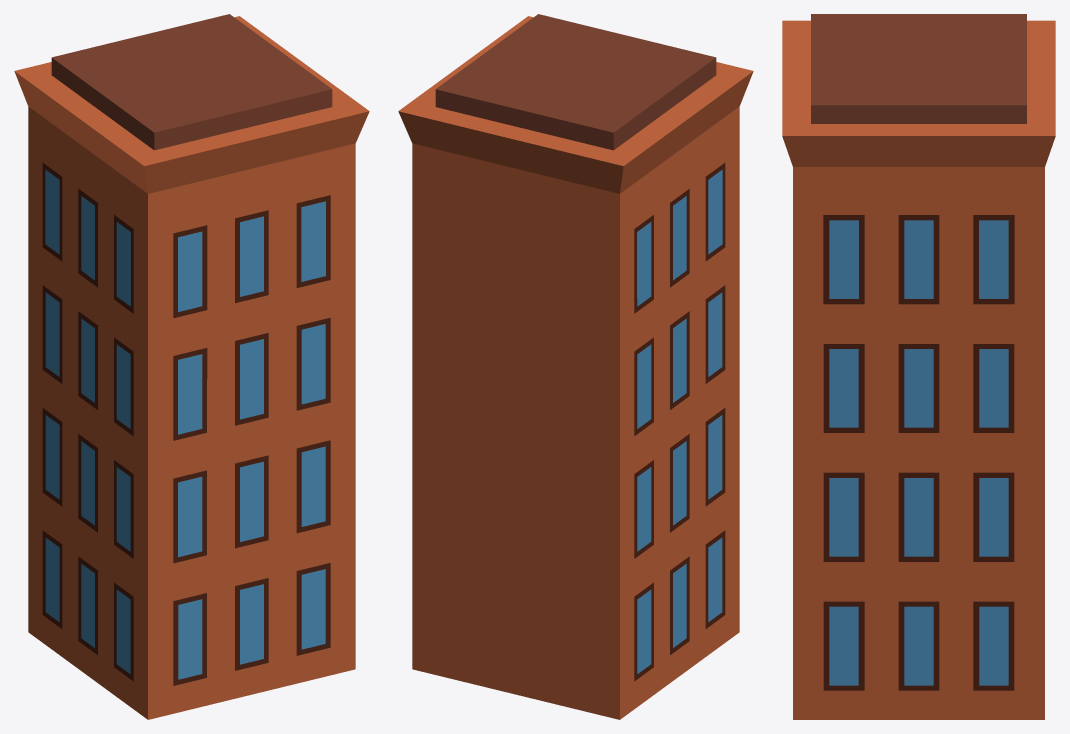
3 views of the same model, side by side, from view 1: azimuth 30°, elevation 25°; view 2: azimuth 150°, elevation 25°; view 3: azimuth 270°, elevation 25° (orthographic). The views are drawn at different scales.
Parts seen in each view (by area): view 1: Cube.001; view 2: Cube.001; view 3: Cube.001.
Boxes of the visible parts, x1,y1,x2,y2 form: Cube.001: [14, 14, 369, 719]; Cube.001: [398, 14, 753, 719]; Cube.001: [782, 14, 1055, 719].
Bounding box in the file's own units: 573 × 573 × 1403.
